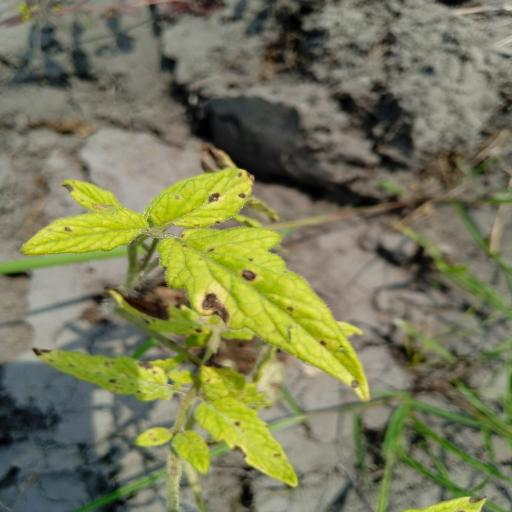Tomato_Brown_Spots: (158, 223, 376, 400), (194, 395, 304, 488), (30, 342, 182, 403), (20, 203, 158, 258), (155, 166, 259, 226)
